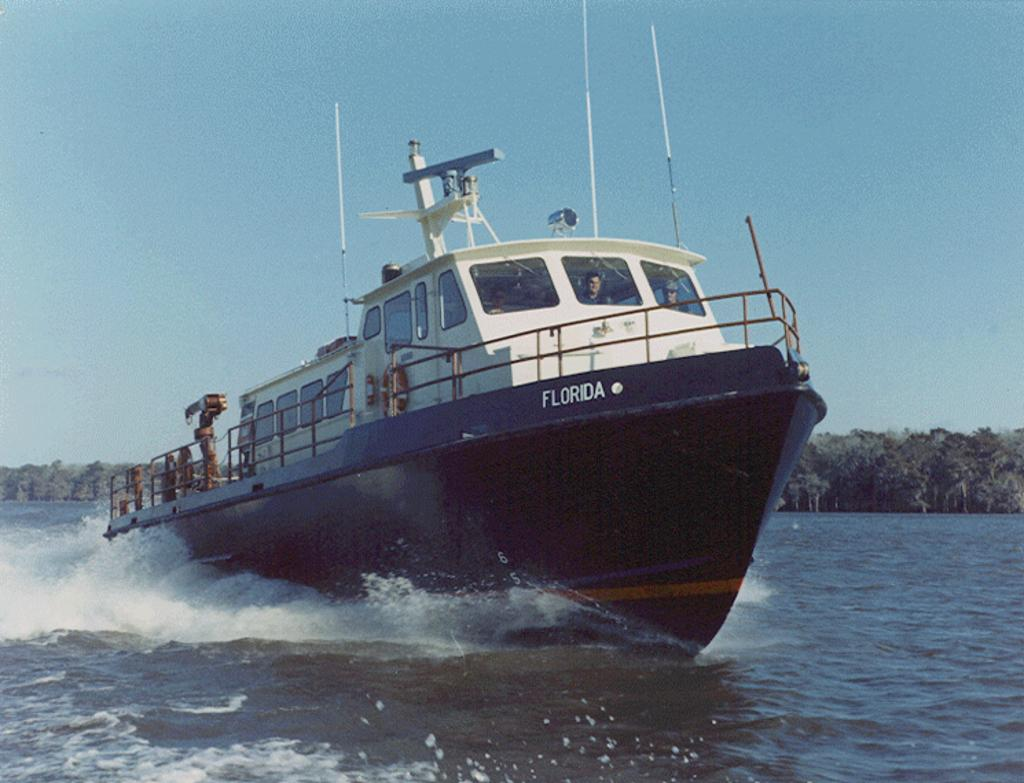PassengerShip: (25, 152, 827, 649)
